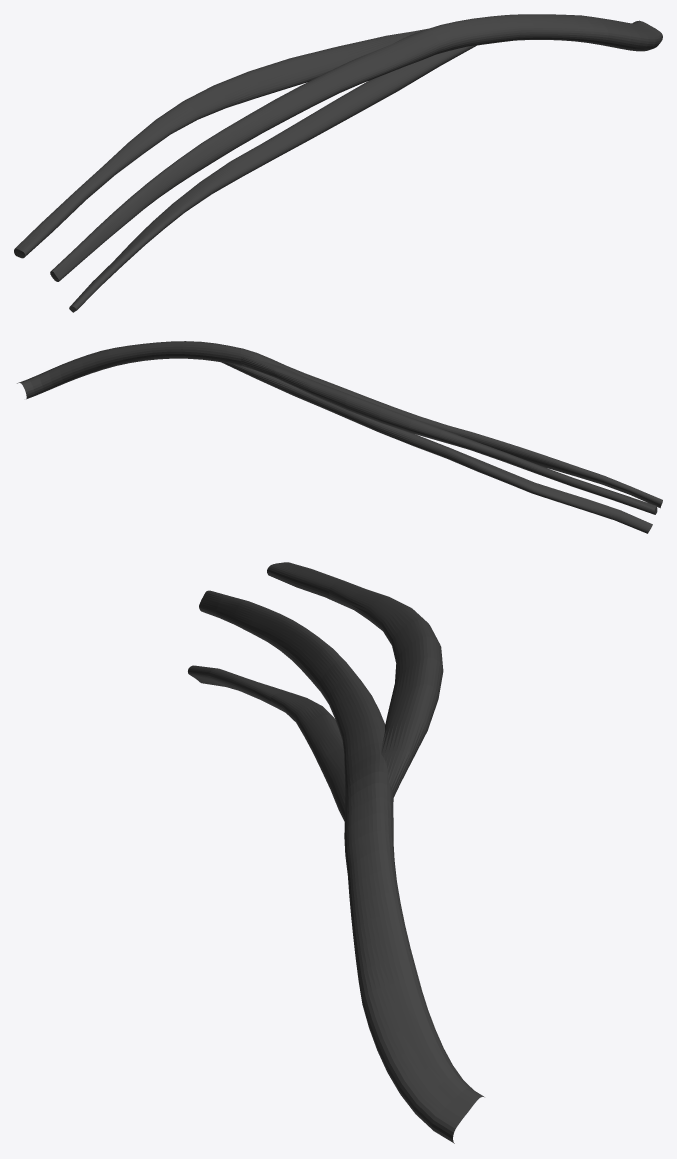
Rendered from N_5_trigeminus_ophthalmic_nasociliary_longciliary.glb.
3 views of the same model, one above another, from view 1: azimuth 30°, elevation 25°; view 2: azimuth 150°, elevation 25°; view 3: azimuth 270°, elevation 25° (orthographic). The views are drawn at different scales.
Visible parts, largest first — view 1: N_5_trigeminus_ophthalmic_nasociliary_longciliary; view 2: N_5_trigeminus_ophthalmic_nasociliary_longciliary; view 3: N_5_trigeminus_ophthalmic_nasociliary_longciliary.
Boxes of the visible parts, x1,y1,x2,y2 form: N_5_trigeminus_ophthalmic_nasociliary_longciliary: [14, 14, 662, 312]; N_5_trigeminus_ophthalmic_nasociliary_longciliary: [17, 341, 662, 533]; N_5_trigeminus_ophthalmic_nasociliary_longciliary: [188, 562, 484, 1143].
Size of the model in its own units: 0.00754 by 0.00153 by 0.00164.
1 material, 1 textured.
